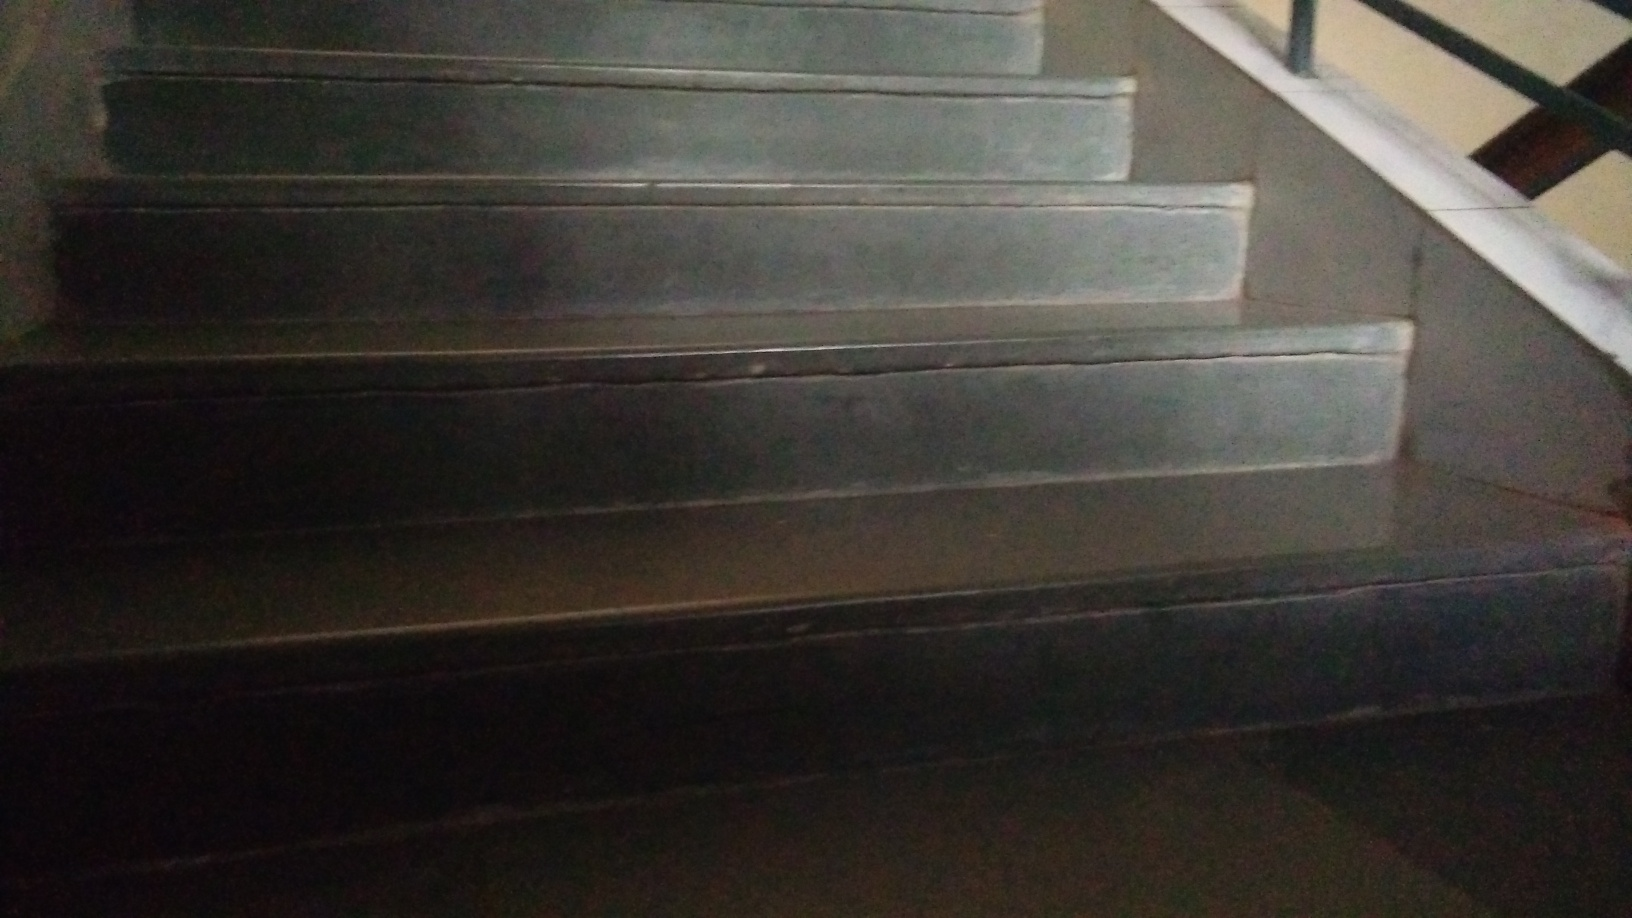stairs_up: (18, 2, 1632, 788)
